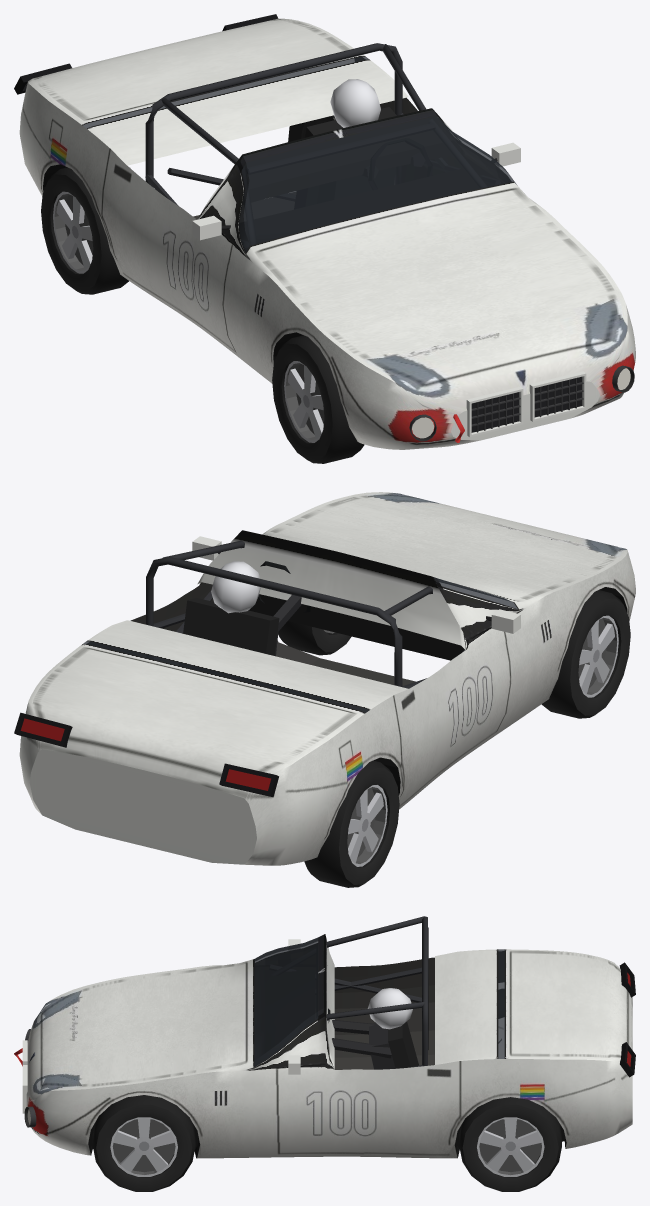
3 renders of one model, top to bottom at view 1: azimuth 30°, elevation 25°; view 2: azimuth 150°, elevation 25°; view 3: azimuth 270°, elevation 25°, orthographic. The views are drawn at different scales.
Parts seen in each view (by area): view 1: body, wheel_fr, wheel_rr; view 2: body, wheel_rr, wheel_fr, wheel_fl; view 3: body, wheel_fl, wheel_rl.
Boxes of the visible parts, box(x1,y1,x2,y2) form: body: box(14, 14, 635, 449); wheel_fr: box(272, 335, 364, 463); wheel_rr: box(41, 167, 128, 294); body: box(14, 492, 635, 865); wheel_rr: box(304, 760, 399, 887); wheel_fr: box(541, 590, 630, 718); wheel_fl: box(278, 621, 351, 655); body: box(14, 916, 635, 1158); wheel_fl: box(92, 1095, 195, 1191); wheel_rl: box(459, 1097, 561, 1191).
Bounding box in the file's own units: 1.94 × 1.3 × 4.1.
2 materials, 1 textured.
